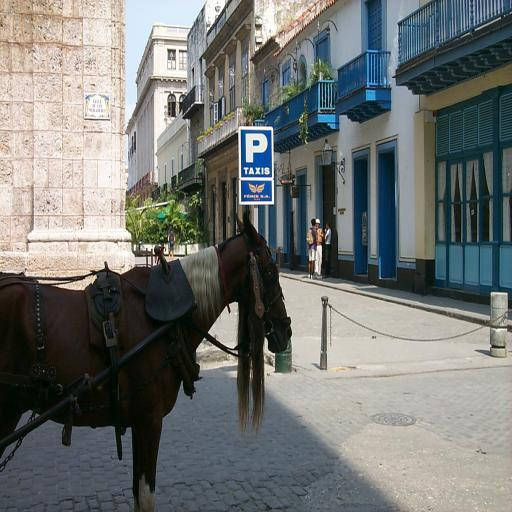horse: (0, 212, 292, 510)
